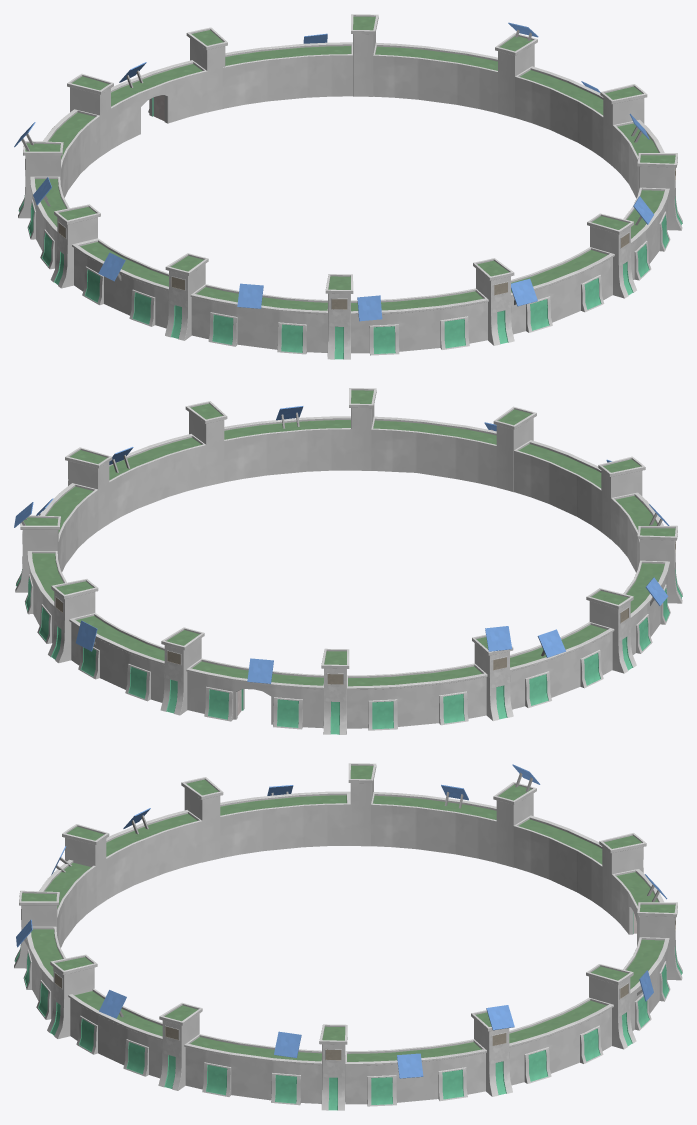
Rendered from Md_Sur.fbx.
3 views of the same model, one above another, from view 1: azimuth 30°, elevation 25°; view 2: azimuth 150°, elevation 25°; view 3: azimuth 270°, elevation 25° (orthographic).
Visible parts, largest first — view 1: Sur1; view 2: Sur1; view 3: Sur1.
Part boxes in pixels (bbox=[...]): Sur1: bbox=[14, 14, 682, 359]; Sur1: bbox=[14, 388, 682, 734]; Sur1: bbox=[14, 763, 682, 1110].
Bounding box in the file's own units: 115 × 16.53 × 115.
